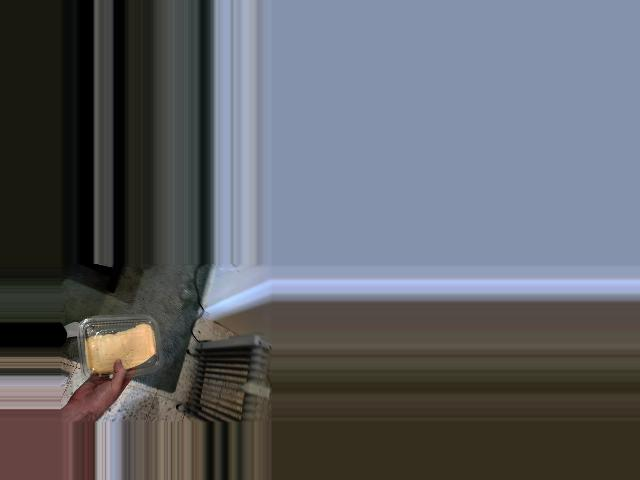cheese: (78, 316, 165, 380)
